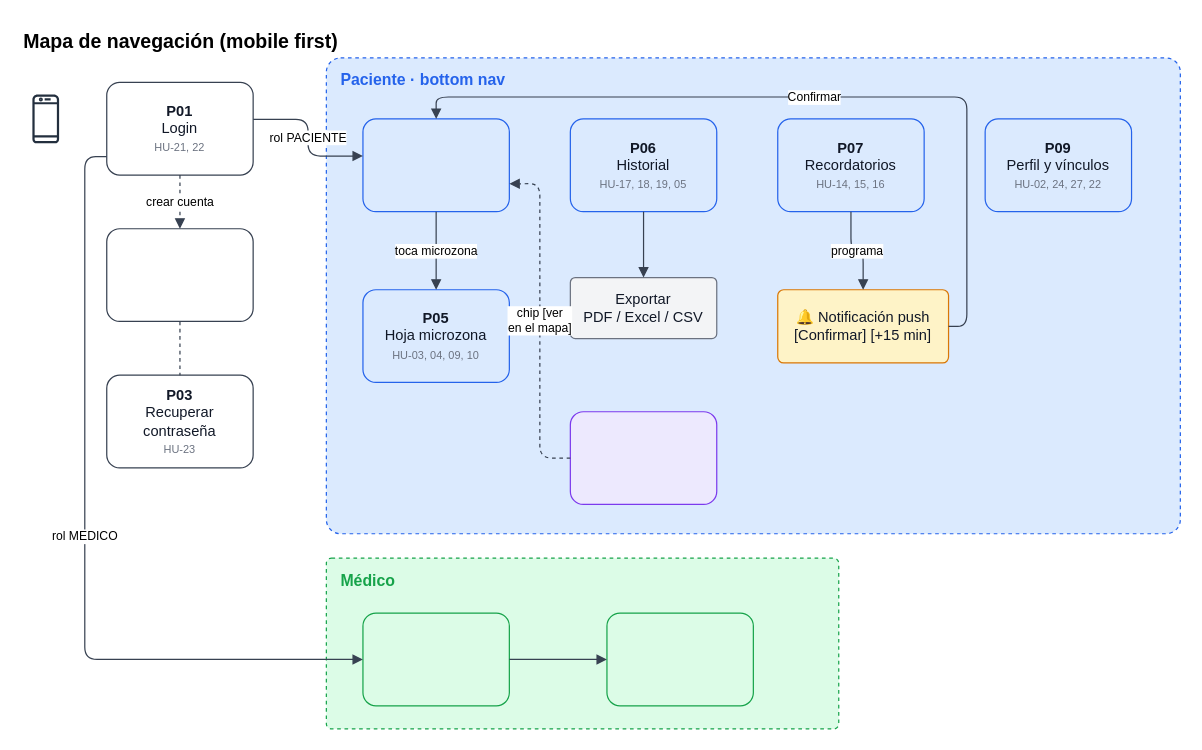
The diagram is 1202 pixels wide and 750 high, and some of its shapes have lost their labels. The centre of each missing label's shape, as x and y in pixels:
P02 Registro HU-20: the point at 179,274
P04 Mapa ★ HU-01..04, 07, 08, 11: the point at 435,165
P08 Asistente IA HU-28, 29, 30: the point at 643,457
P10 Mis pacientes HU-24, 25: the point at 435,659
P11 Detalle paciente (solo lectura) HU-25, 26: the point at 679,659
